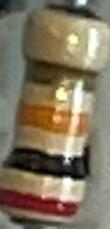Black: (1, 144, 87, 180)
Orange: (16, 98, 91, 137)
Red: (1, 187, 82, 218)
Side-Gold: (26, 55, 101, 90)
